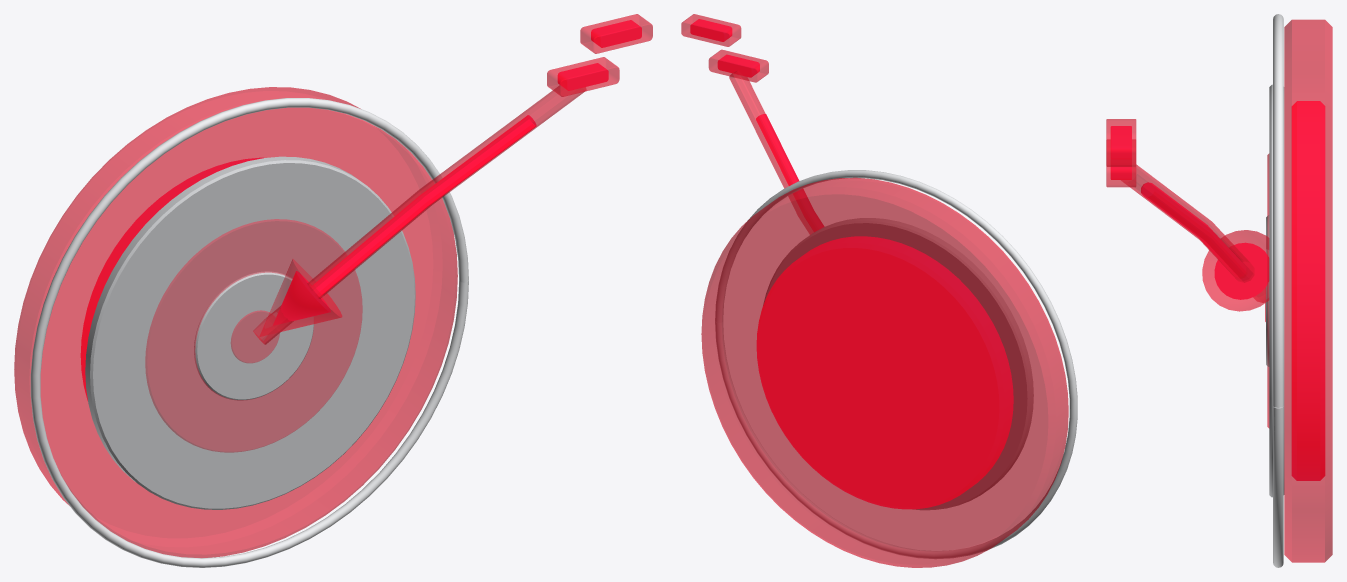
File: 21-target.glb
3 views of the same model, side by side, from view 1: azimuth 30°, elevation 25°; view 2: azimuth 150°, elevation 25°; view 3: azimuth 270°, elevation 25° (orthographic). The views are drawn at different scales.
Visible parts, largest first — view 1: BC ruby optical glass, BC satin iron, BC polished iron bevel, BC internal ruby light; view 2: BC ruby optical glass, BC internal ruby light, BC polished iron bevel, BC satin iron; view 3: BC ruby optical glass, BC internal ruby light, BC polished iron bevel, BC satin iron.
Part boxes in pixels (left/top/right/bottom): BC ruby optical glass: left=14, top=14, right=652, bottom=558; BC satin iron: left=85, top=156, right=415, bottom=509; BC polished iron bevel: left=30, top=98, right=468, bottom=567; BC internal ruby light: left=80, top=20, right=641, bottom=400; BC ruby optical glass: left=681, top=14, right=1068, bottom=567; BC internal ruby light: left=690, top=19, right=1013, bottom=509; BC polished iron bevel: left=715, top=170, right=1077, bottom=558; BC satin iron: left=763, top=218, right=1033, bottom=509; BC ruby optical glass: left=1106, top=19, right=1332, bottom=562; BC internal ruby light: left=1110, top=101, right=1325, bottom=480; BC polished iron bevel: left=1273, top=14, right=1283, bottom=567; BC satin iron: left=1266, top=84, right=1284, bottom=497.
Bounding box in the file's own units: 2.28 × 2.07 × 0.75.
